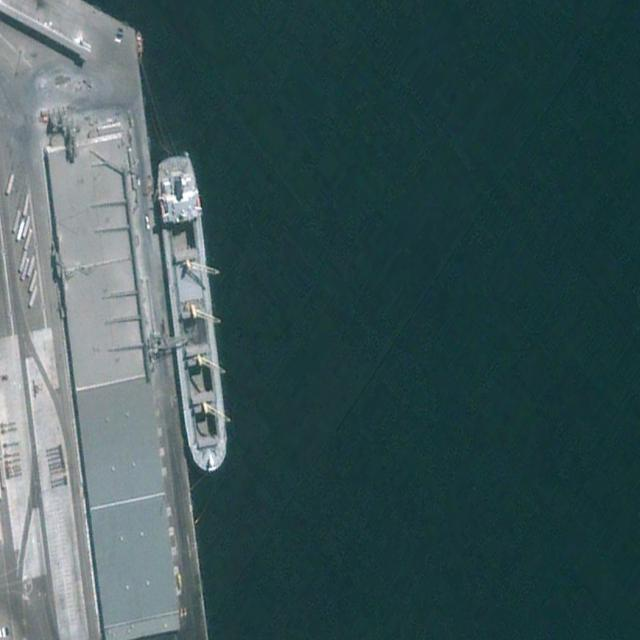Cargo: (153, 151, 231, 476)
